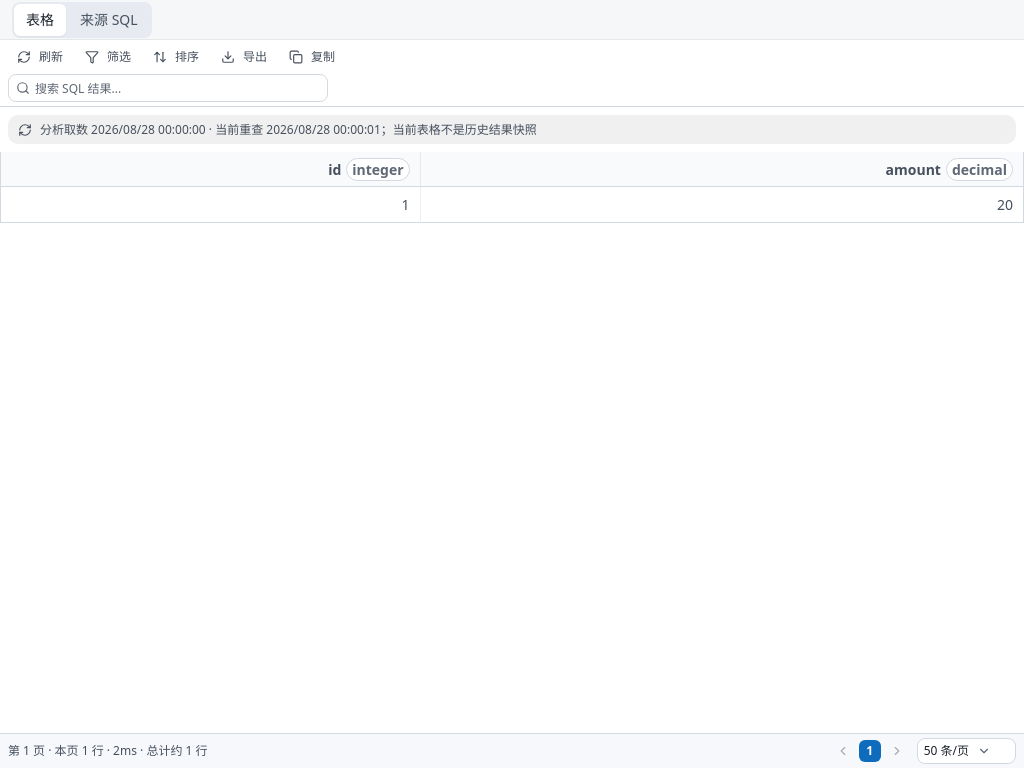
it: ArtifactViewHost › discovers multiple Views while keeping one Artifact identity
The image size is (1024, 768).
Expected: the tab "表格" is shown, [14,4,66,36]
Expected: the text "20" is shown, [997,194,1013,215]
Press the mouse on the tab "来源 SQL" at (109, 20), box [68,4,150,36]
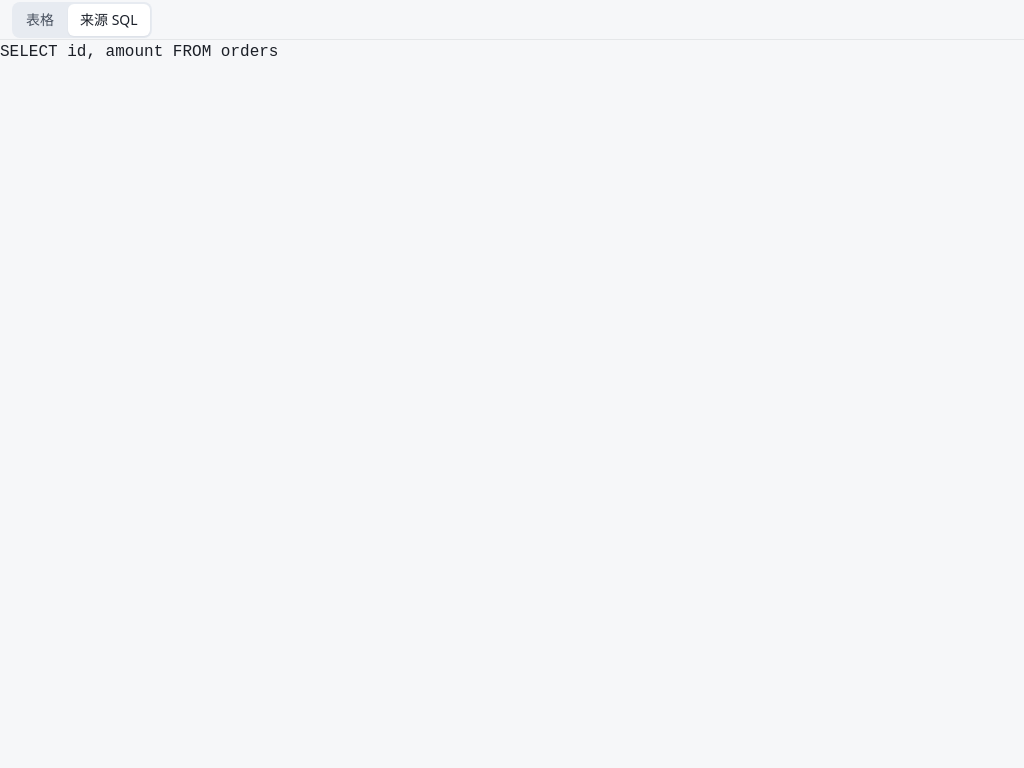
Expected: the text "orders" is shown, [0,43,278,61]
